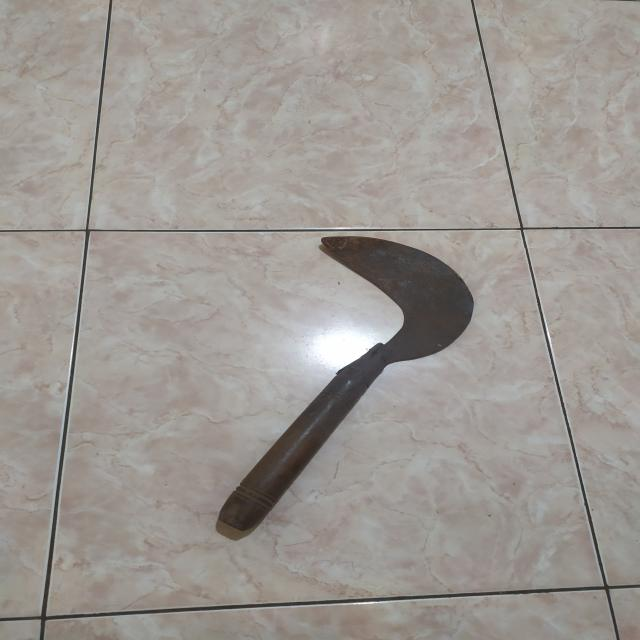Celurit: (219, 236, 475, 534)
